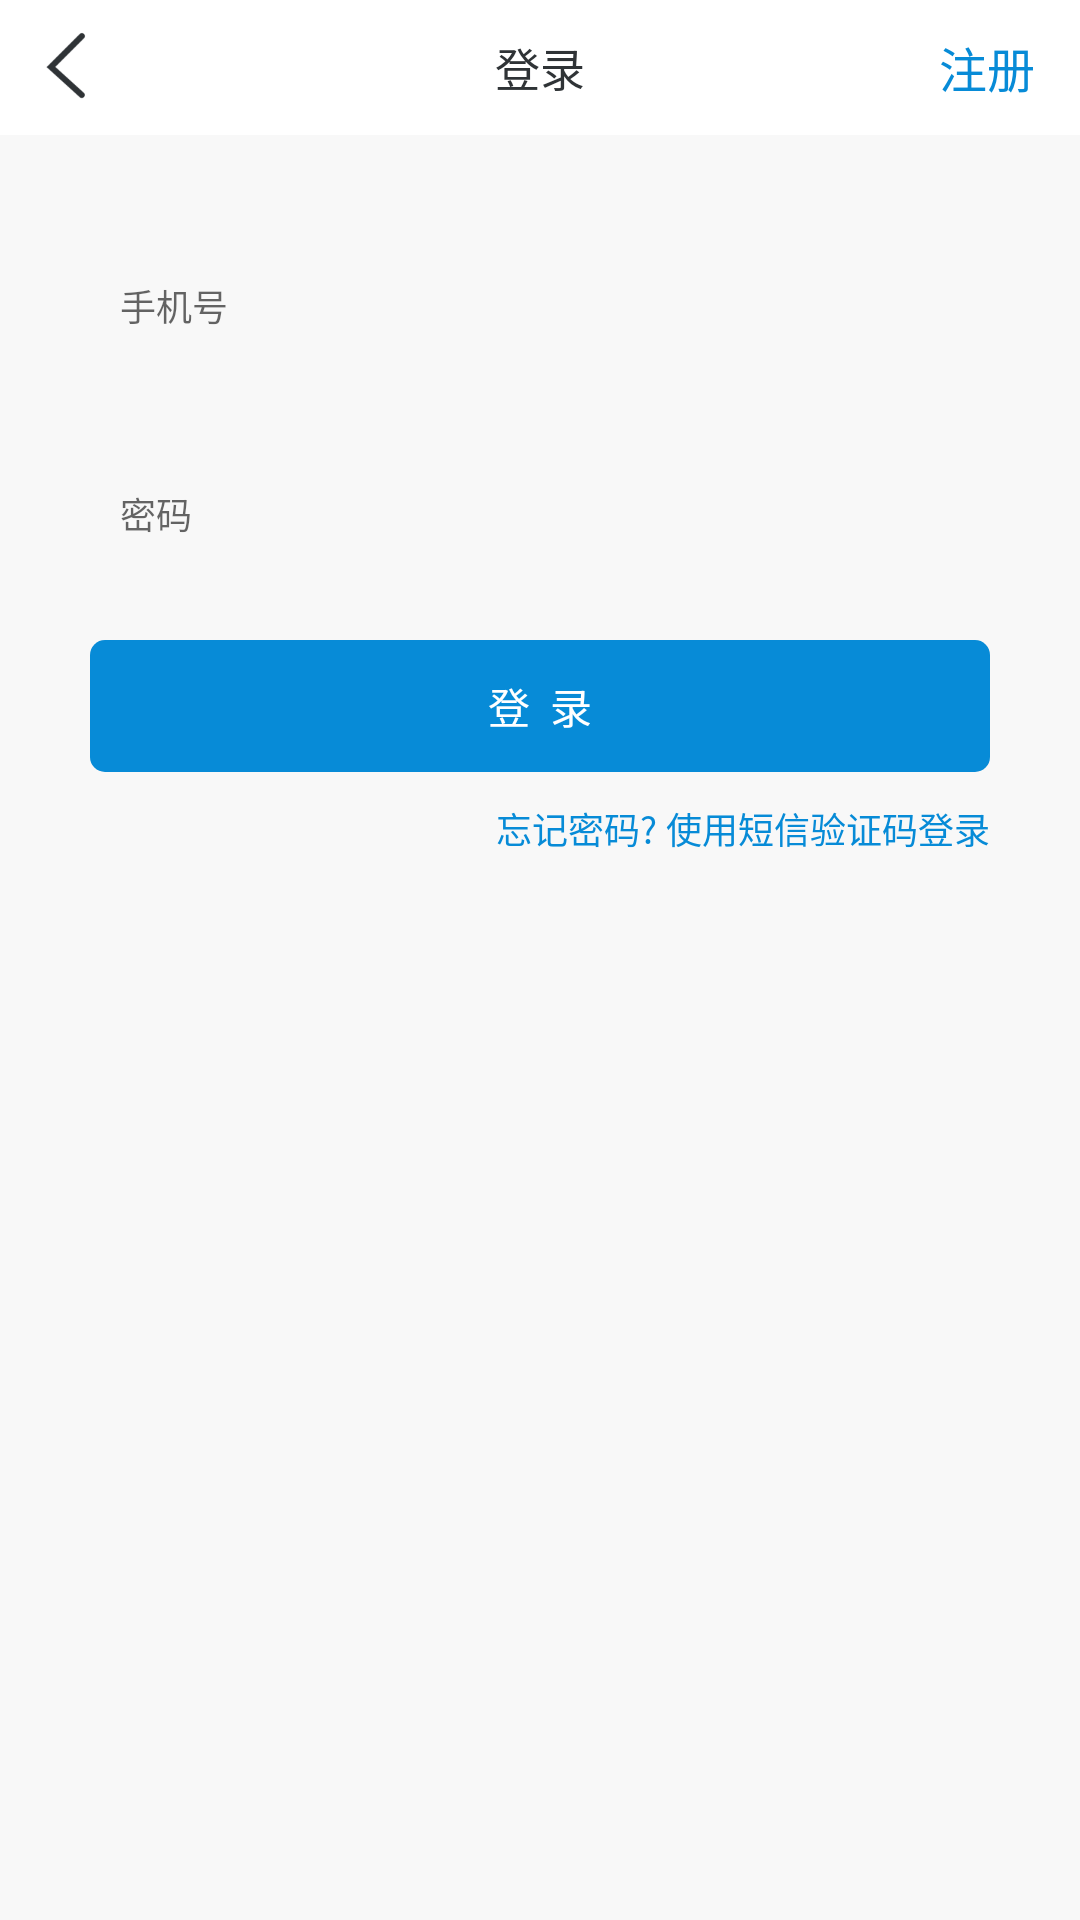

Named icons in this screenshot (1080×1920) and their bounding boxes, BBox(x1, y1, x2, y2):
back: BBox(46, 33, 85, 98)
